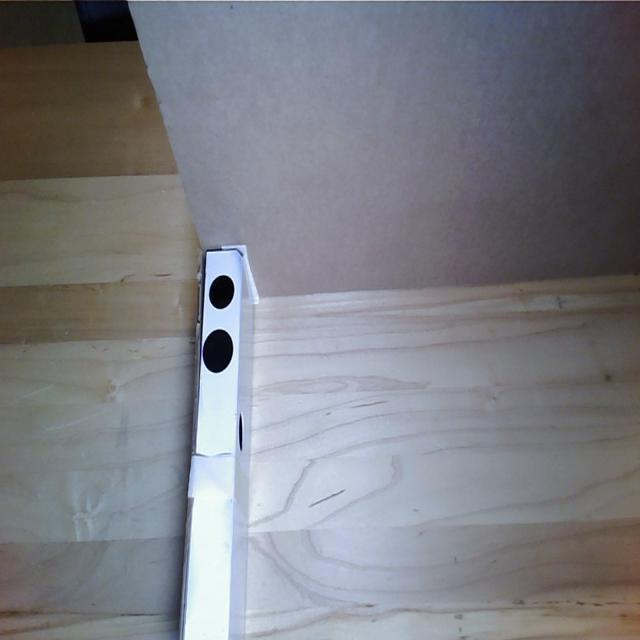Hole: (207, 271, 236, 309), (236, 406, 248, 458)
Sticker: (201, 328, 234, 372)
